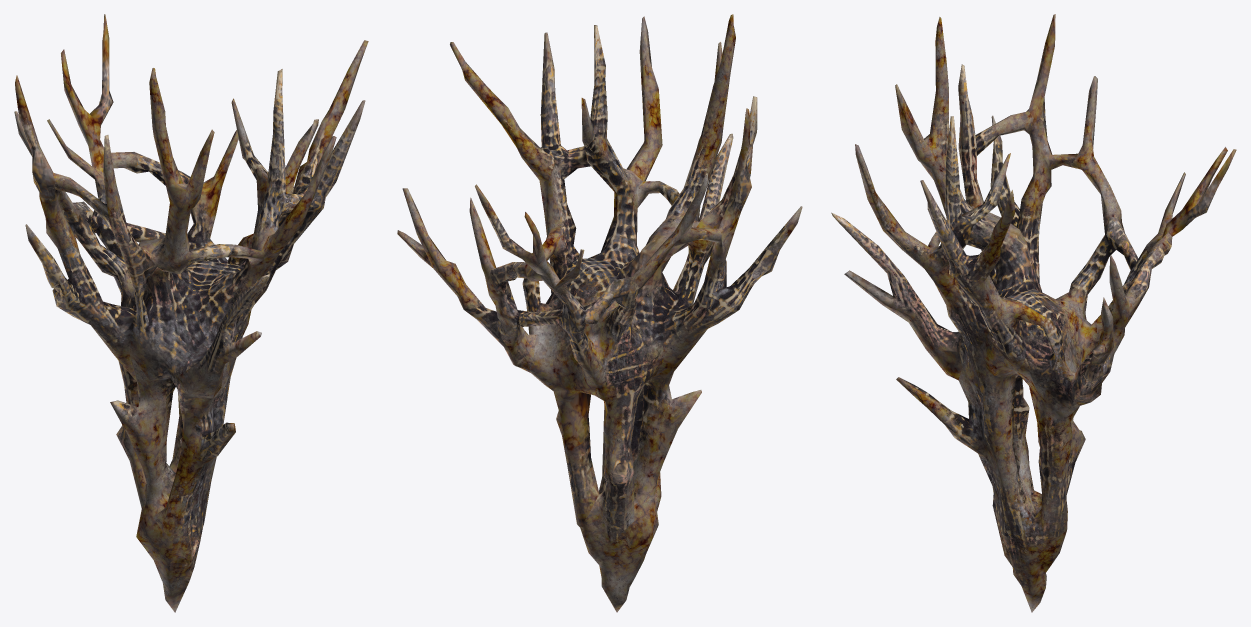
File: P_VariationBranch02.fbx
The picture shows the model from 3 angles, left to right: view 1: azimuth 30°, elevation 25°; view 2: azimuth 150°, elevation 25°; view 3: azimuth 270°, elevation 25°; orthographic projection. The views are drawn at different scales.
Visible parts, largest first — view 1: P_VariationBranch02; view 2: P_VariationBranch02; view 3: P_VariationBranch02.
Boxes of the visible parts, <box> form: P_VariationBranch02: <box>14,14,368,612</box>; P_VariationBranch02: <box>397,14,802,612</box>; P_VariationBranch02: <box>831,14,1236,612</box>.
Size of the model in its own units: 1127 by 1772 by 1155.
